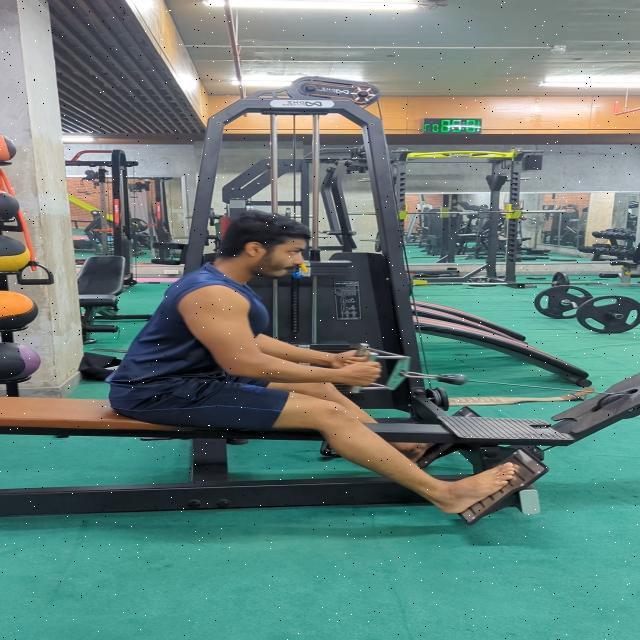Normal_RowingMachineExercise: (102, 209, 522, 515)
